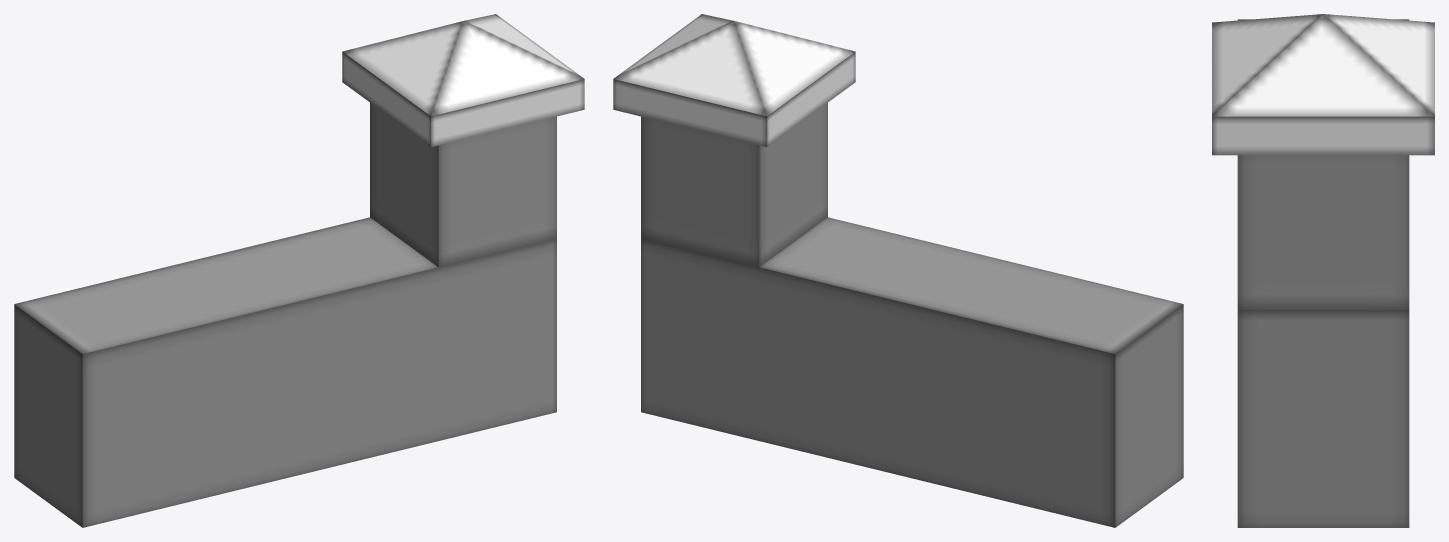
The model's file is Fence-03.fbx.
3 views of the same model, side by side, from view 1: azimuth 30°, elevation 25°; view 2: azimuth 150°, elevation 25°; view 3: azimuth 270°, elevation 25° (orthographic). The views are drawn at different scales.
Parts seen in each view (by area): view 1: Fence_03; view 2: Fence_03; view 3: Fence_03.
Boxes of the visible parts, x1,y1,x2,y2 form: Fence_03: [14, 14, 584, 527]; Fence_03: [613, 14, 1183, 527]; Fence_03: [1212, 14, 1434, 527].
Size of the model in its own units: 1.04 by 0.7668 by 0.324.
